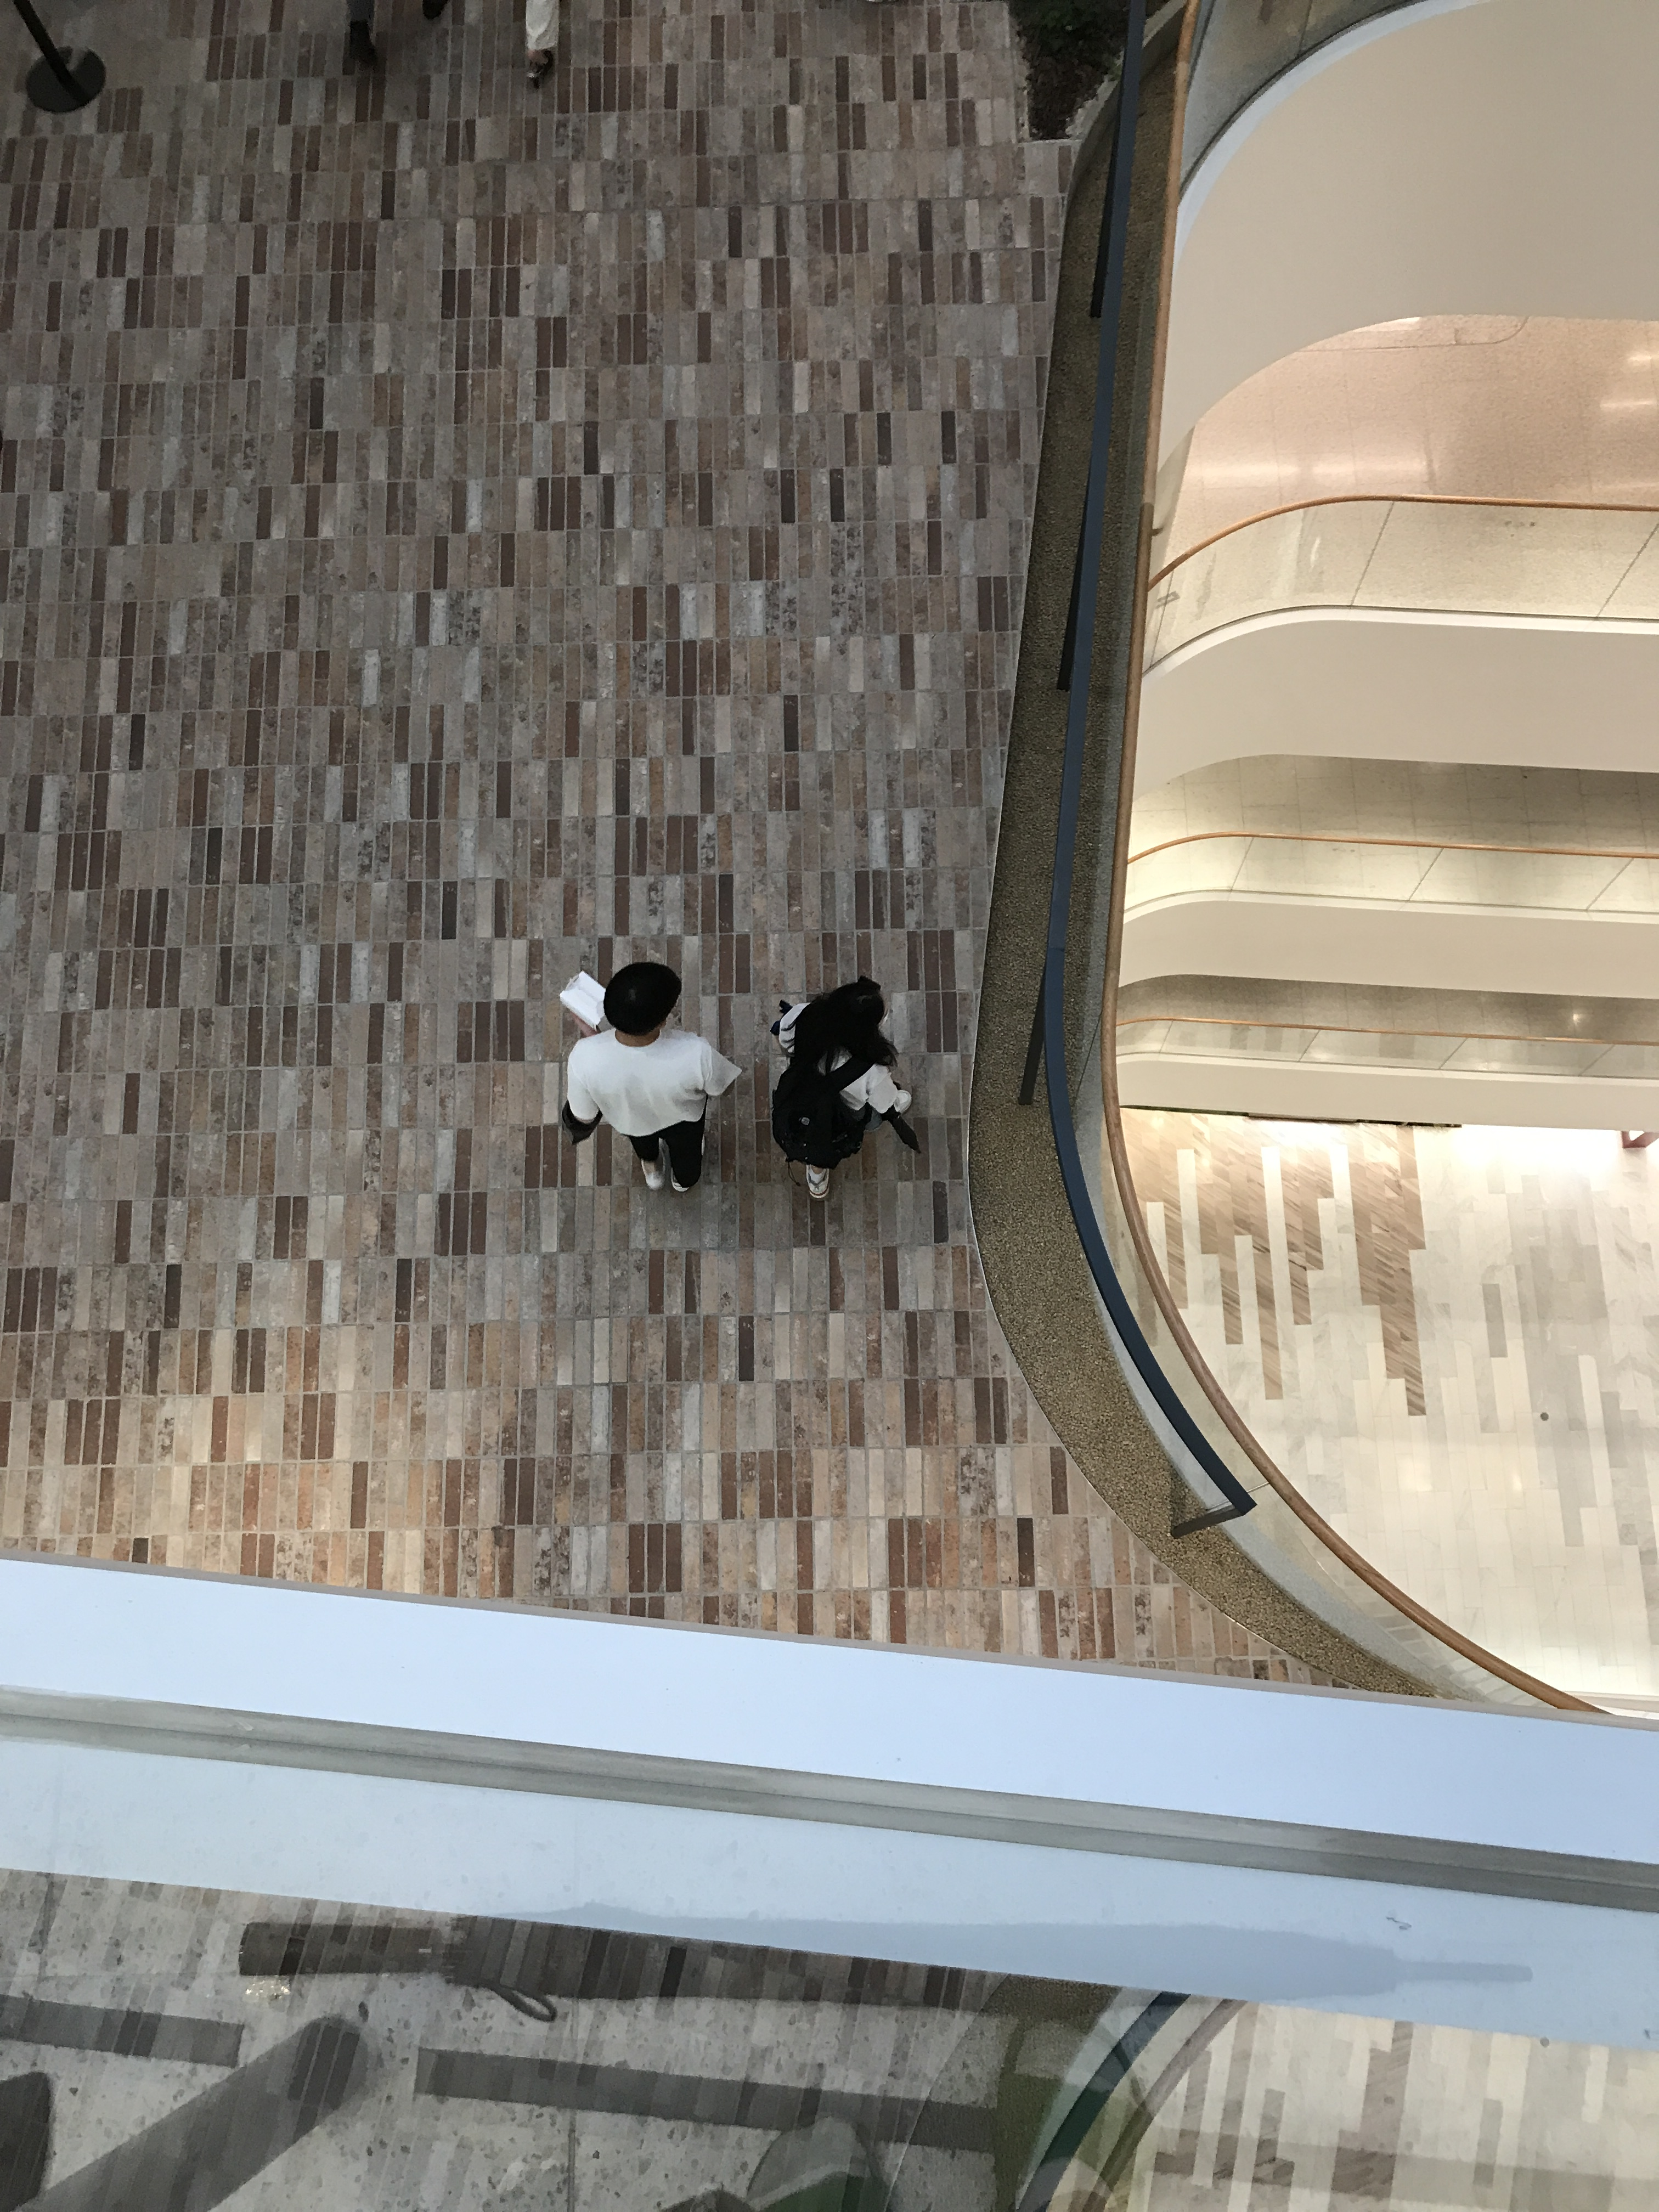person: (555, 964, 737, 1199), (765, 979, 915, 1208)
